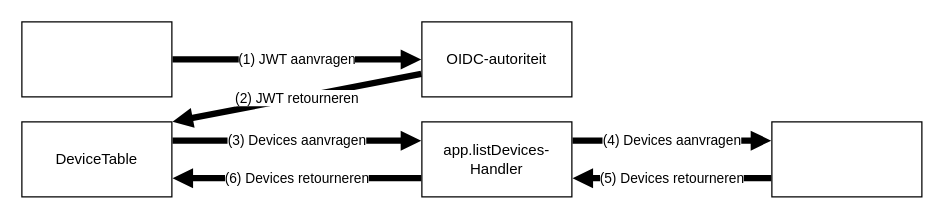
Image size: 944x219. Some labels were removed from this diagram. The centre of each missing label's shape, as x and y in pixels:
"Gebruiker: Authentication" goes at point 96,59.
"Postgres database" goes at point 846,159.
